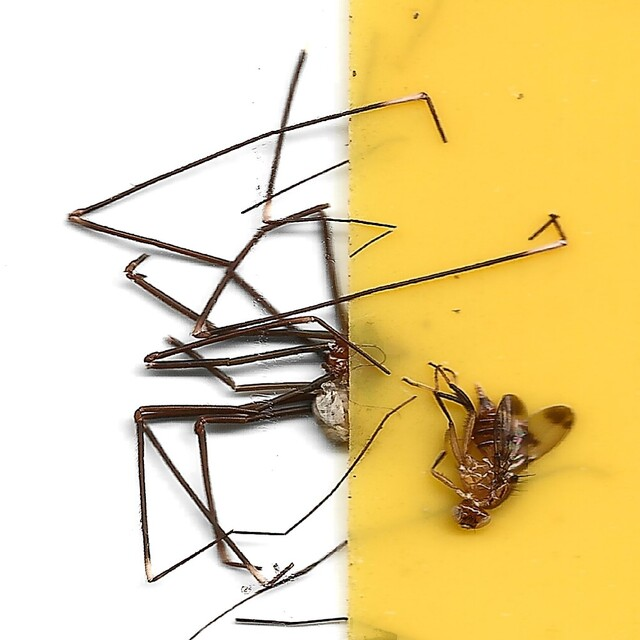Araneae: (63, 52, 575, 588)
Brachycera: (400, 362, 577, 532)
